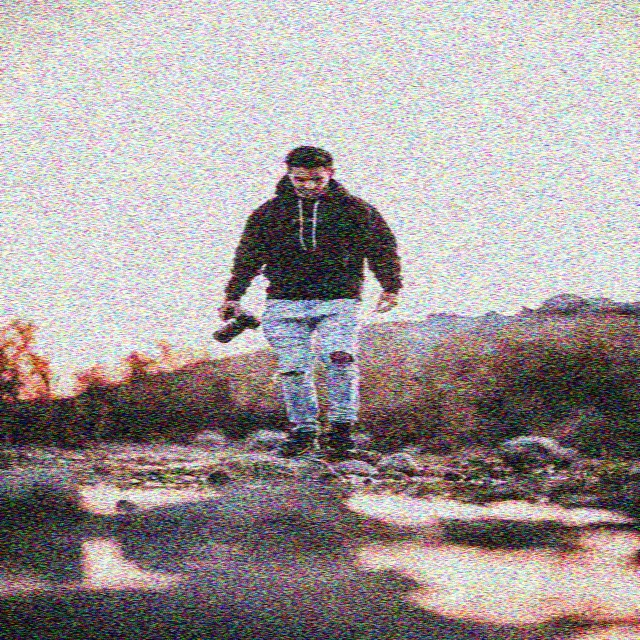ripped_pants: (259, 290, 369, 434)
